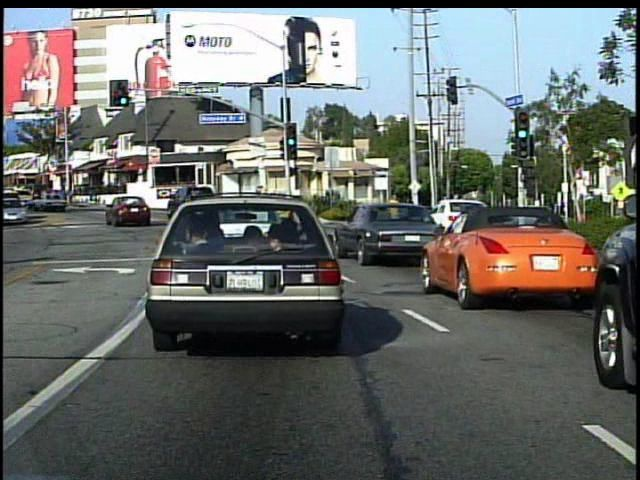person: (383, 191, 404, 230), (403, 192, 421, 233)
